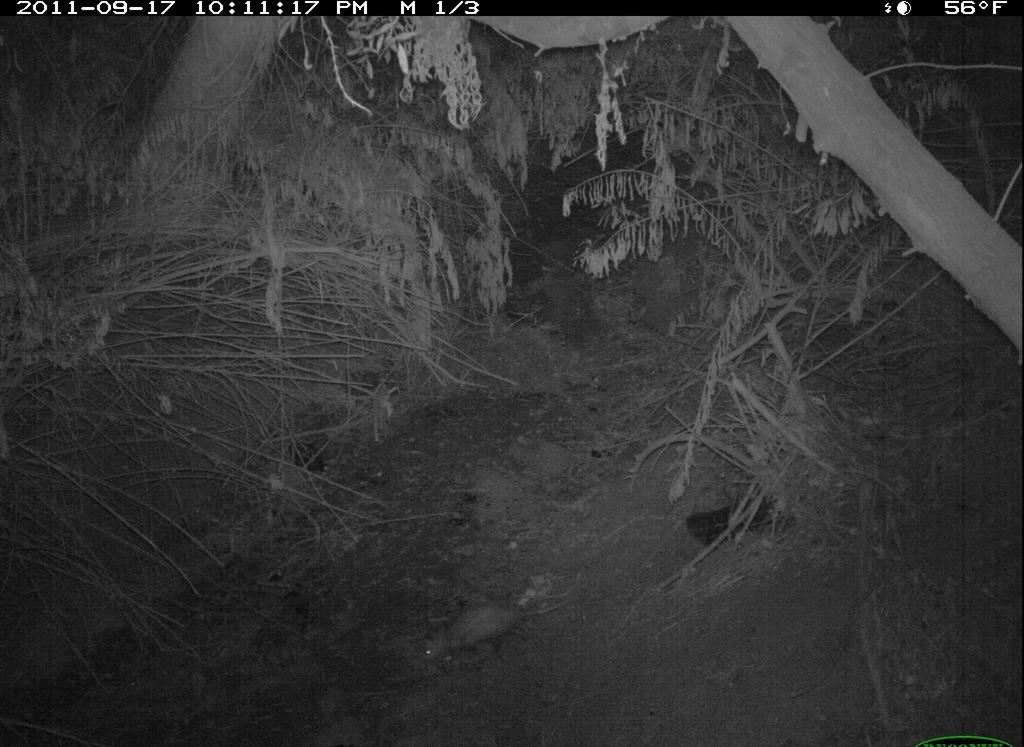opossum: (415, 580, 597, 669)
